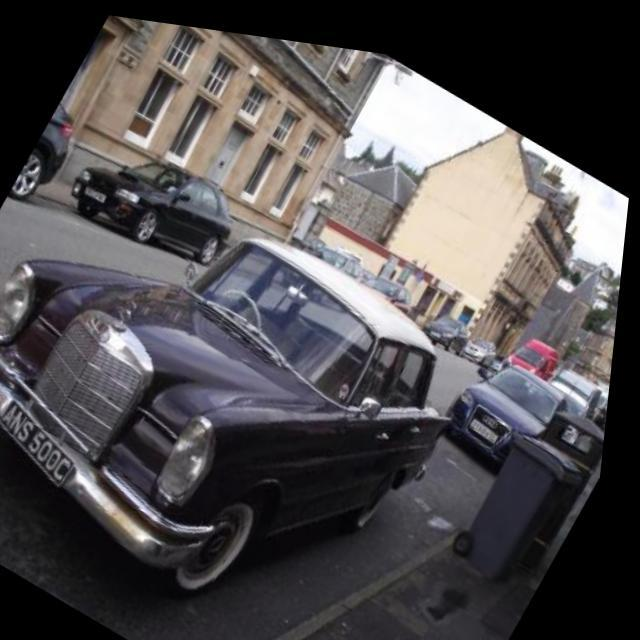license_plate: (0, 391, 101, 494), (474, 402, 509, 429), (86, 180, 110, 200), (433, 314, 448, 326)
